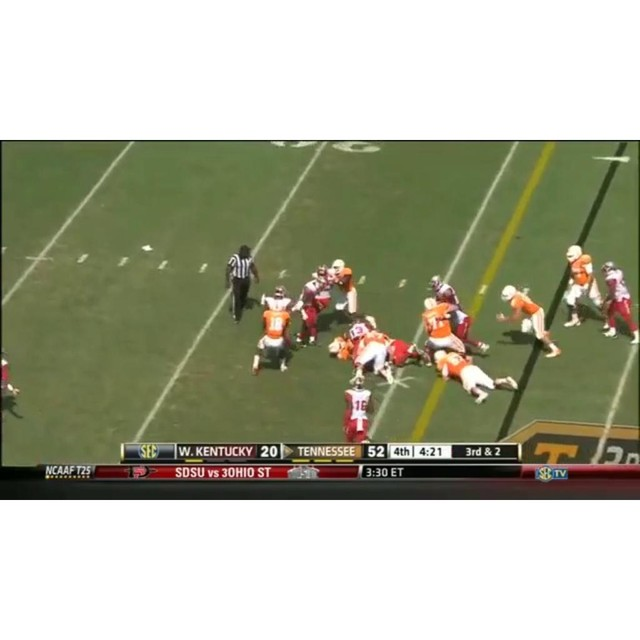american-football-player: (431, 350, 522, 406), (497, 284, 563, 358), (427, 275, 487, 354), (561, 245, 605, 330), (293, 269, 334, 350), (599, 261, 638, 344), (421, 298, 467, 366), (329, 258, 373, 326), (253, 304, 293, 375), (349, 327, 396, 387), (342, 375, 373, 442), (328, 332, 358, 362)
referee: (225, 244, 259, 323)
